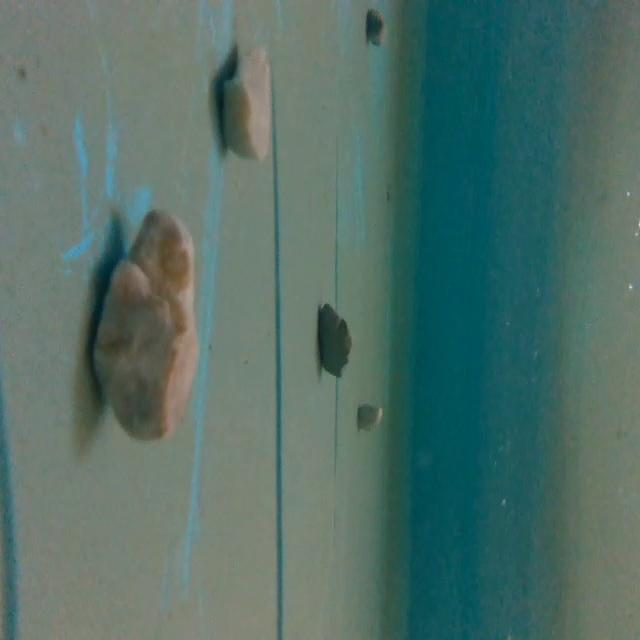rock: (93, 209, 204, 443), (218, 47, 281, 163), (313, 294, 352, 380), (354, 396, 384, 434), (364, 9, 386, 50)
